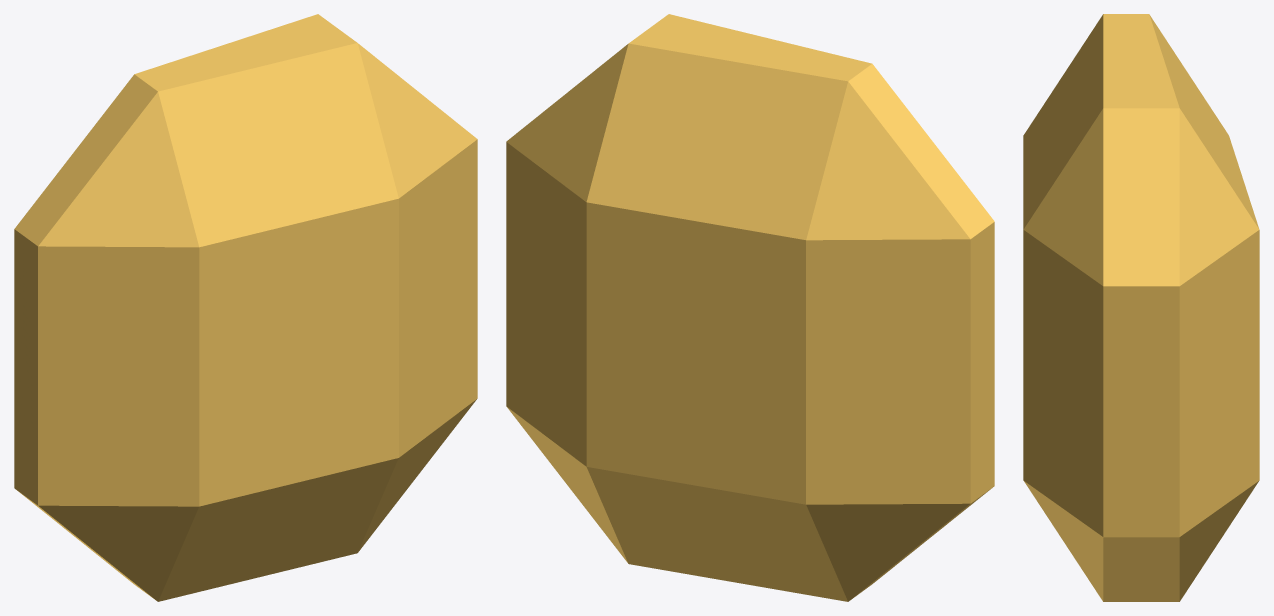
The model's file is Topas.fbx.
3 renders of one model, left to right at view 1: azimuth 30°, elevation 25°; view 2: azimuth 150°, elevation 25°; view 3: azimuth 270°, elevation 25°, orthographic. The views are drawn at different scales.
Visible parts, largest first — view 1: Topas; view 2: Topas; view 3: Topas.
Boxes of the visible parts, bbox=[...] form: Topas: bbox=[14, 14, 477, 601]; Topas: bbox=[506, 14, 994, 601]; Topas: bbox=[1023, 14, 1259, 601].
Bounding box in the file's own units: 31.07 × 34.48 × 14.93.
